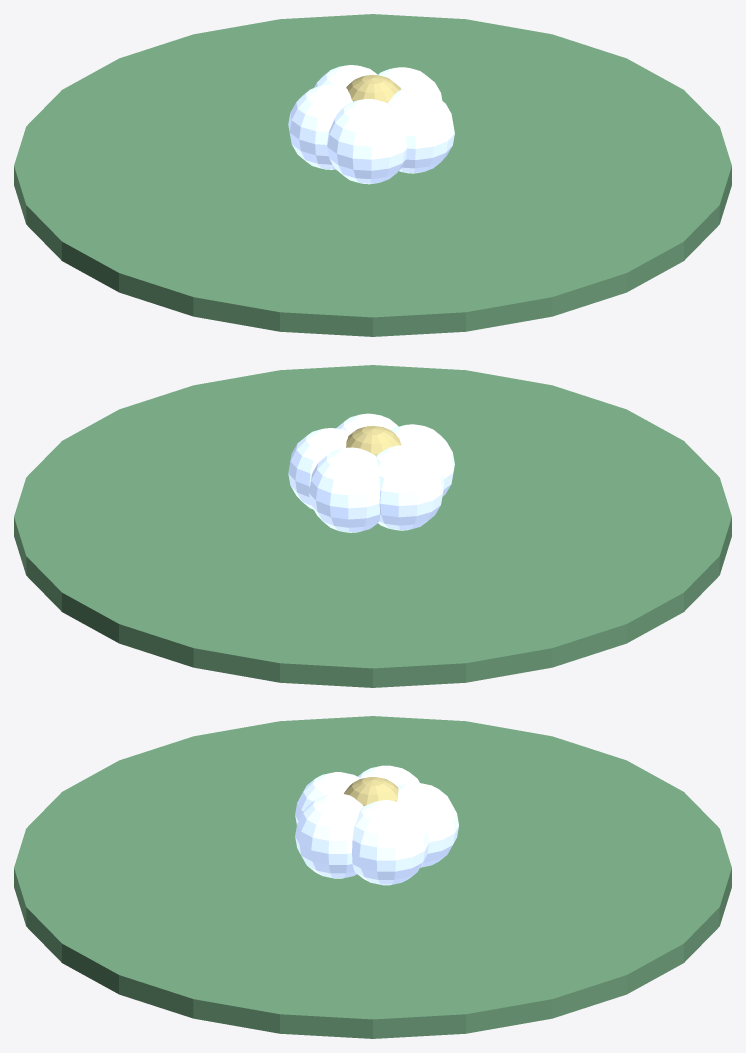
The model's file is lily_pad_blue.glb.
3 renders of one model, top to bottom at view 1: azimuth 30°, elevation 25°; view 2: azimuth 150°, elevation 25°; view 3: azimuth 270°, elevation 25°, orthographic.
Parts seen in each view (by area): view 1: lily_pad_blue; view 2: lily_pad_blue; view 3: lily_pad_blue.
Boxes of the visible parts, <box> form: lily_pad_blue: <box>14,14,731,336</box>; lily_pad_blue: <box>14,365,731,687</box>; lily_pad_blue: <box>14,716,731,1038</box>.
Size of the model in its own units: 1 by 0.165 by 1.
